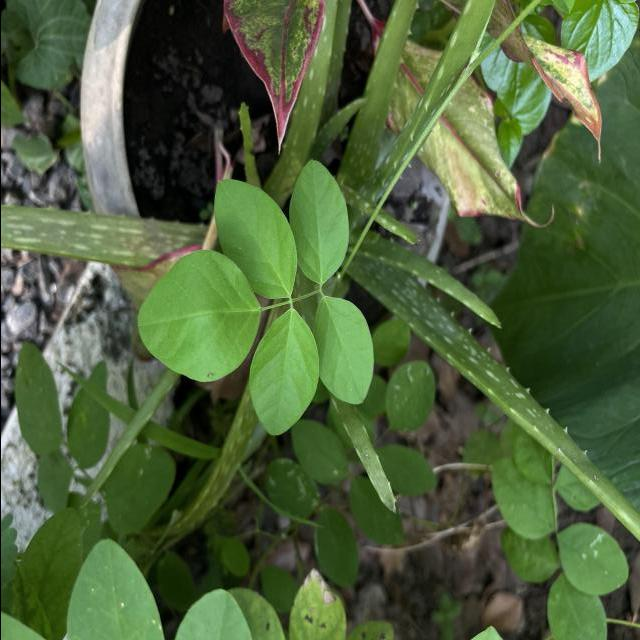Clitoria ternatea: (136, 248, 262, 384), (212, 178, 297, 302), (248, 308, 320, 438), (287, 158, 349, 286), (311, 294, 374, 406)
